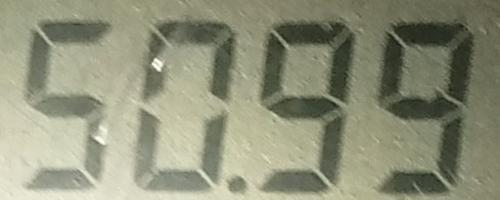.: (225, 173, 249, 197)
